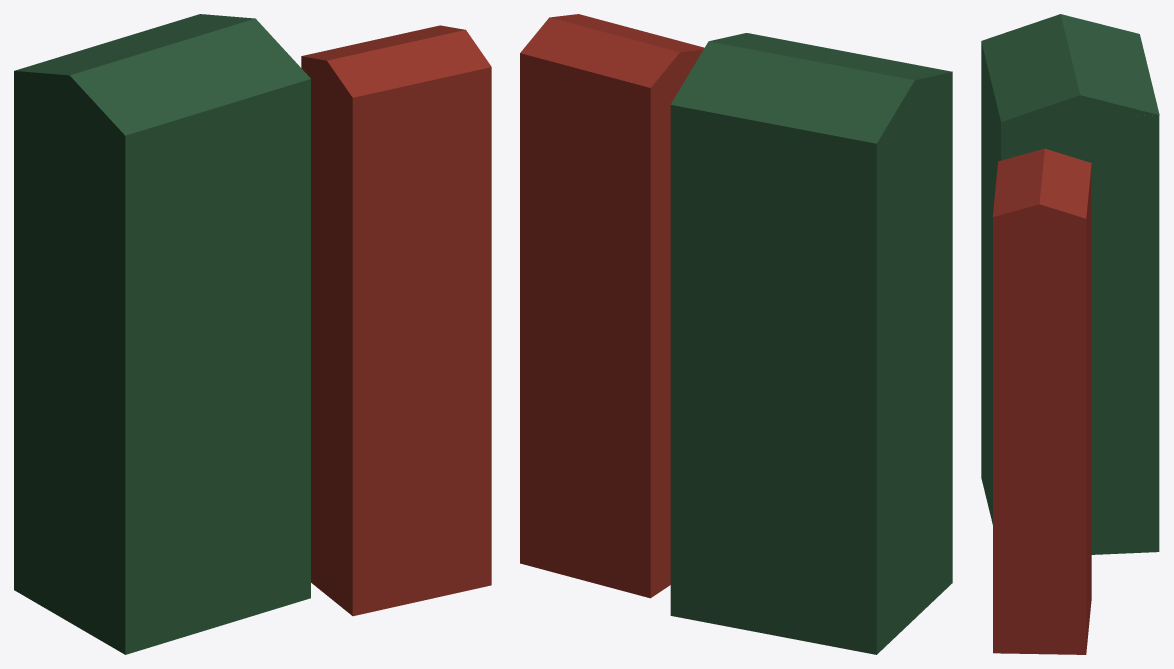
Rendered from near-15-27351-14870.aebf9ff3.glb.
3 views of the same model, side by side, from view 1: azimuth 30°, elevation 25°; view 2: azimuth 150°, elevation 25°; view 3: azimuth 270°, elevation 25° (orthographic). The views are drawn at different scales.
Bounding box in the file's own units: 12.77 × 17.77 × 5.95.
